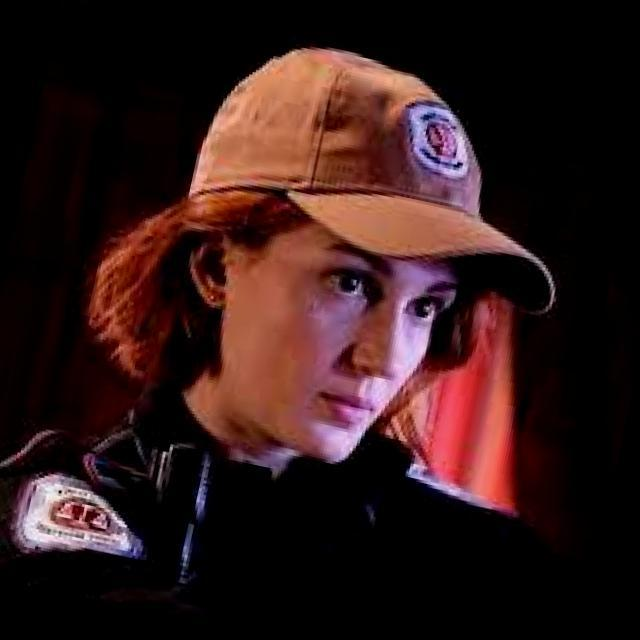cap: (138, 0, 634, 363)
